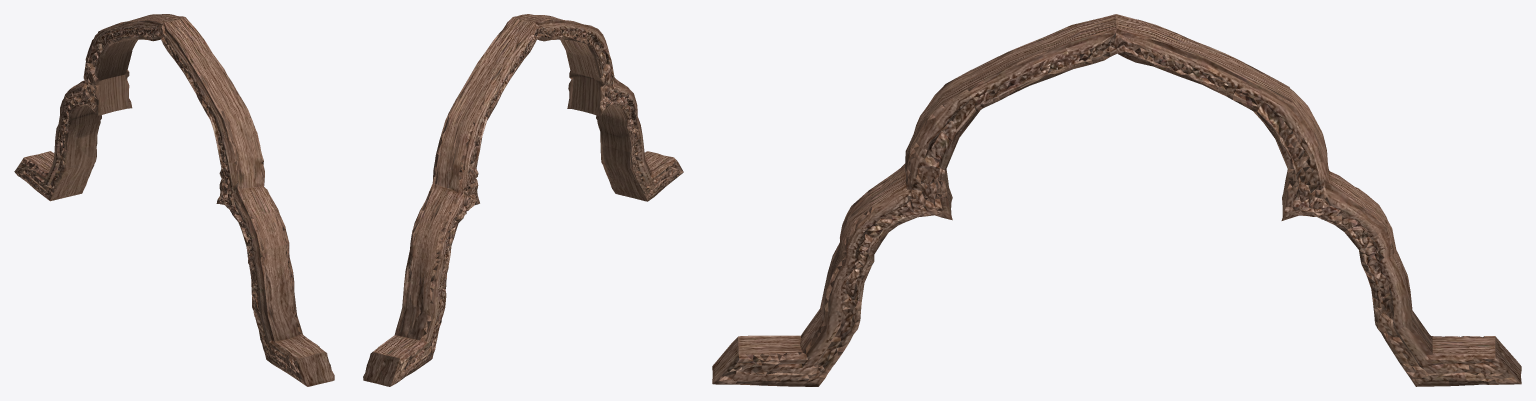
Rendered from SM_diaohua_3_c97d83.glb.
3 views of the same model, side by side, from view 1: azimuth 30°, elevation 25°; view 2: azimuth 150°, elevation 25°; view 3: azimuth 270°, elevation 25° (orthographic). The views are drawn at different scales.
Parts seen in each view (by area): view 1: SM_diaohua_3; view 2: SM_diaohua_3; view 3: SM_diaohua_3.
Boxes of the visible parts, x1,y1,x2,y2 form: SM_diaohua_3: [14, 14, 334, 386]; SM_diaohua_3: [363, 14, 683, 386]; SM_diaohua_3: [712, 14, 1521, 386].
Size of the model in its own units: 0.1036 by 0.7013 by 1.45.
1 material, 1 textured.
